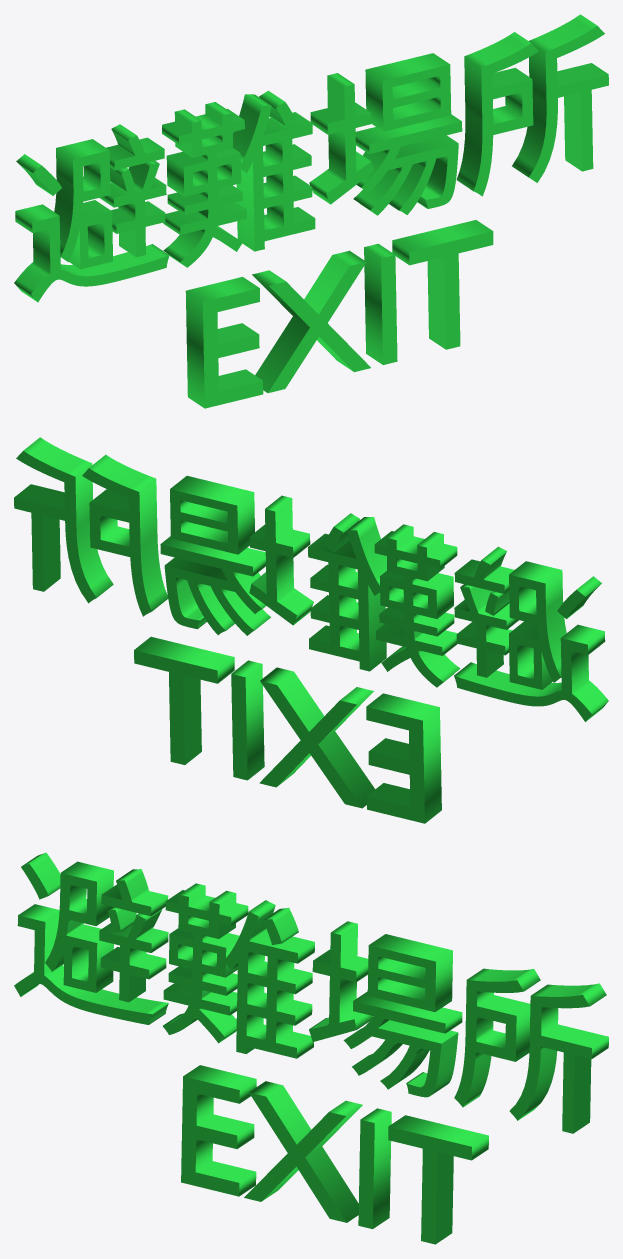
Rendered from hinan.glb.
3 renders of one model, top to bottom at view 1: azimuth 30°, elevation 25°; view 2: azimuth 150°, elevation 25°; view 3: azimuth 330°, elevation 25°, orthographic.
Visible parts, largest first — view 1: Text; view 2: Text; view 3: Text.
Part boxes in pixels (x1=…): Text: x1=14, y1=14, x2=608, y2=408; Text: x1=14, y1=437, x2=608, y2=823; Text: x1=14, y1=852, x2=608, y2=1244.
Size of the model in its own units: 3.93 by 1.85 by 0.2654.
